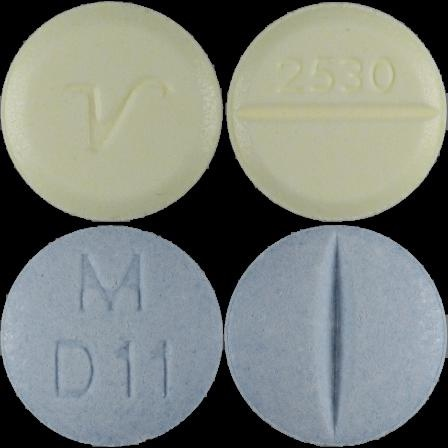55289-599: (0, 0, 224, 224)
